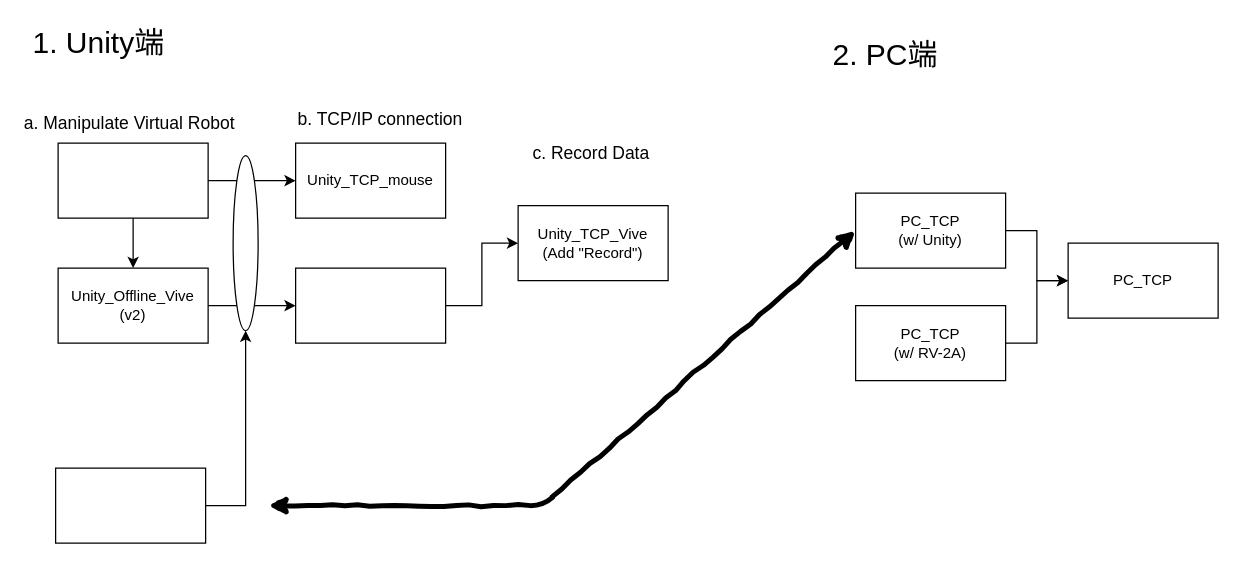
This 1240x565 diagram has some shape labels left out. Each missing label, with the centre of its shape:
Unity_Offline_mouse (v1): point (132, 180)
Unity_TCP: point (130, 505)
Unity_TCP_Vive: point (370, 305)
